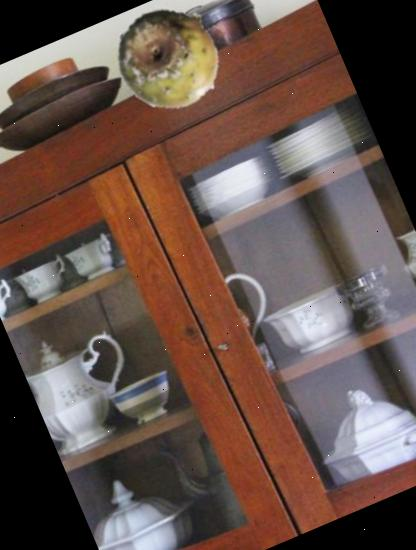Cactus: (101, 0, 241, 125)
